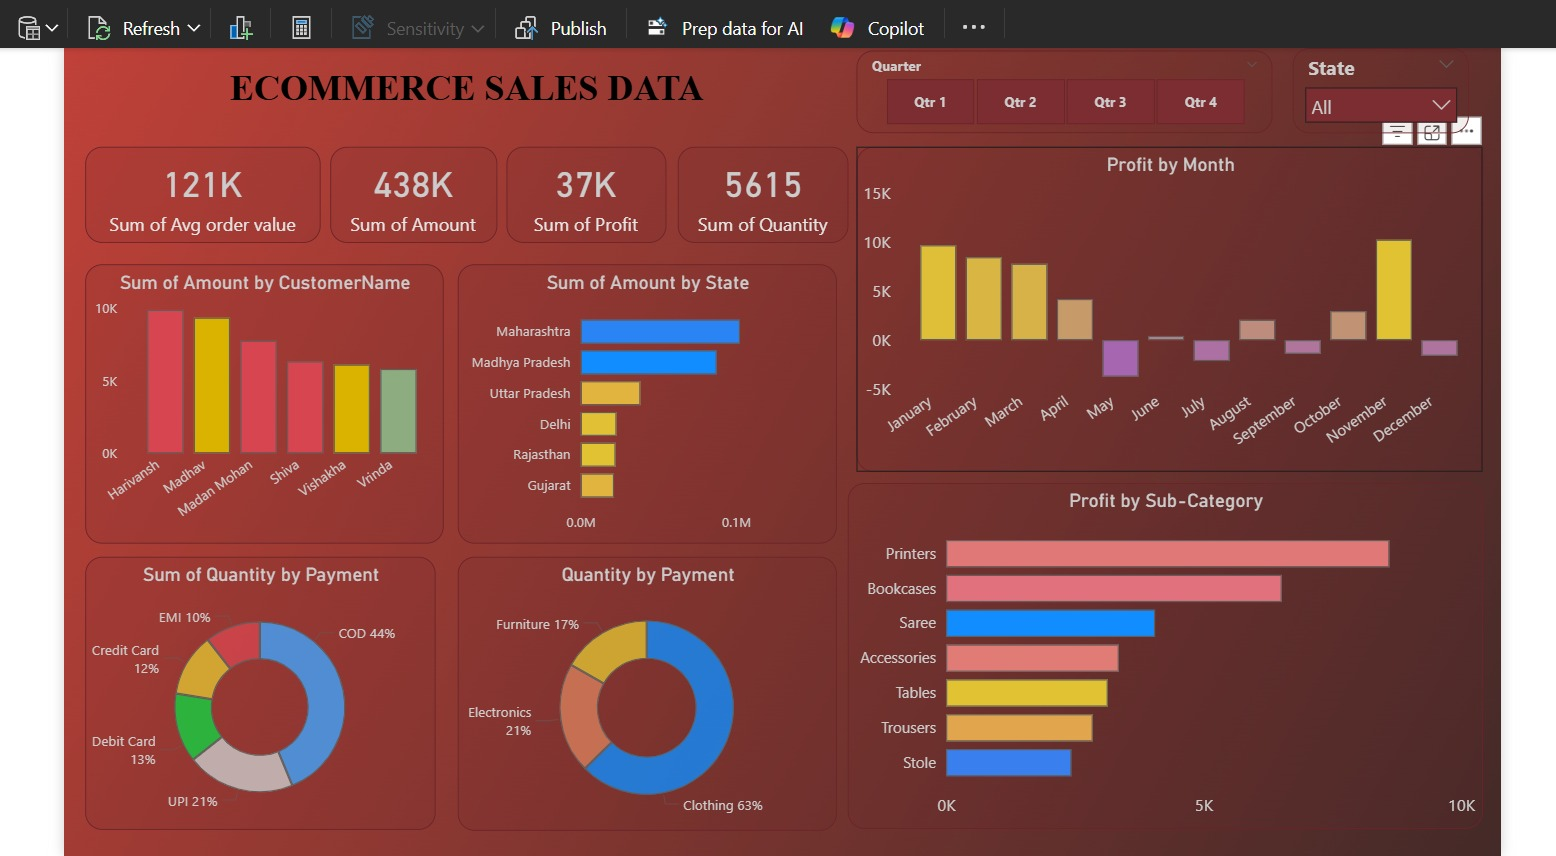

This screenshot's page, from the dashboard's own definition file:
{"tool":"powerbi","page":{"name":"Page 1","canvas":[1280,720],"ordinal":0},"visuals":[{"type":"textbox","box":[18.4,12.3,679.8,52.8],"z":0},{"type":"columnChart","title":"Profit by Month","fields":{"Category":["Orders.Order Date.Variation.Date Hierarchy.Month"],"Y":["Sum(Details.Profit)"]},"box":[705.5,88.3,558.3,289.6],"z":1000},{"type":"barChart","title":"Profit by Sub-Category","fields":{"Category":["Details.Sub-Category"],"Y":["Sum(Details.Profit)"]},"box":[698.2,387.7,565.6,308],"z":2000},{"type":"donutChart","title":"Sum of Quantity by Payment","fields":{"Y":["Sum(Details.Quantity)"],"Category":["Details.PaymentMode"]},"box":[18.4,452.8,311.7,242.9],"z":3000},{"type":"donutChart","title":"Quantity by Payment","fields":{"Y":["Sum(Details.Quantity)"],"Category":["Details.Category"]},"box":[350.9,452.8,337.4,244.2],"z":4000},{"type":"card","fields":{"Values":["Sum(Details.Profit)"]},"box":[393.9,88.3,142.3,85.9],"z":5000},{"type":"card","fields":{"Values":["Sum(Details.Quantity)"]},"box":[546,88.3,152.1,85.9],"z":6000},{"type":"card","fields":{"Values":["Sum(Details.Amount)"]},"box":[236.8,88.3,148.5,85.9],"z":7000},{"type":"card","fields":{"Values":["Sum(Details.Avg order value)"]},"box":[18.4,88.3,209.8,85.9],"z":8000},{"type":"clusteredBarChart","fields":{"Category":["Orders.State"],"Y":["Sum(Details.Amount)"]},"box":[350.9,192.6,337.4,249.1],"z":9000},{"type":"clusteredColumnChart","fields":{"Category":["Orders.CustomerName"],"Y":["Sum(Details.Amount)"]},"box":[18.4,192.6,319,249.1],"z":10000},{"type":"slicer","fields":{"Values":["Orders.Order Date.Variation.Date Hierarchy.Quarter"]},"box":[705.5,2.5,370.6,73.6],"z":11000},{"type":"slicer","fields":{"Values":["Orders.State"]},"box":[1094.5,0,157.1,76.1],"z":12000}]}

Visuals, with their boxes on the page's 1280x720 design canvas (x1, y1, x2, y2). These are canvas units, not pixel positions in the 1556x856 screenshot, which may show the page scaled, cropped or inside an application window:
textbox: region(18, 12, 698, 65)
"Profit by Month" columnChart: region(706, 88, 1264, 378)
"Profit by Sub-Category" barChart: region(698, 388, 1264, 696)
"Sum of Quantity by Payment" donutChart: region(18, 453, 330, 696)
"Quantity by Payment" donutChart: region(351, 453, 688, 697)
card - Sum(Details.Profit): region(394, 88, 536, 174)
card - Sum(Details.Quantity): region(546, 88, 698, 174)
card - Sum(Details.Amount): region(237, 88, 385, 174)
card - Sum(Details.Avg order value): region(18, 88, 228, 174)
clusteredBarChart - Orders.State x Sum(Details.Amount): region(351, 193, 688, 442)
clusteredColumnChart - Orders.CustomerName x Sum(Details.Amount): region(18, 193, 337, 442)
slicer - Orders.Order Date.Variation.Date Hierarchy.Quarter: region(706, 2, 1076, 76)
slicer - Orders.State: region(1094, 0, 1252, 76)
